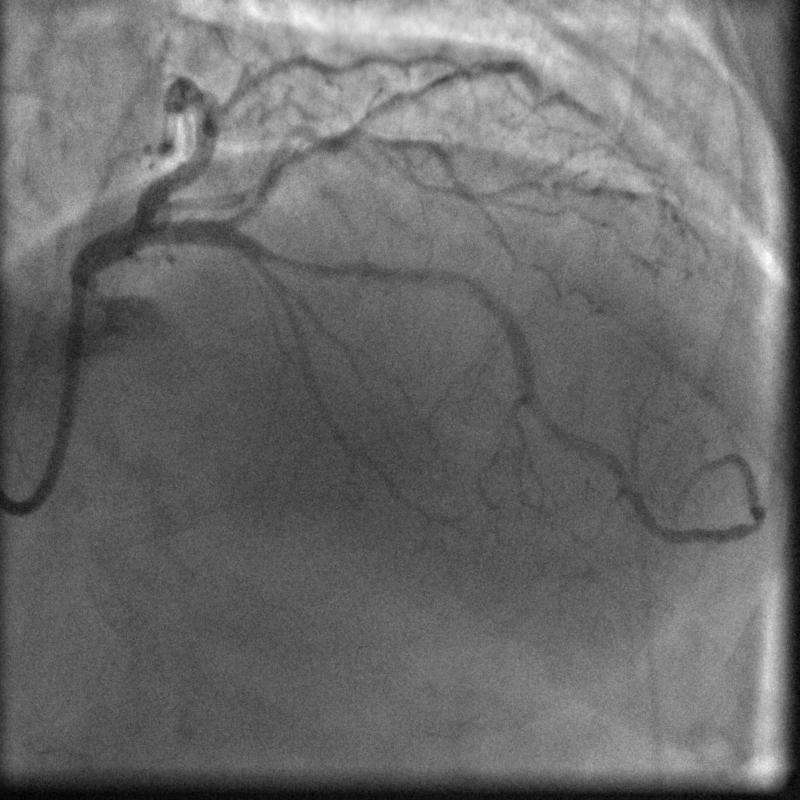Stenosis: (267, 240, 348, 284)
